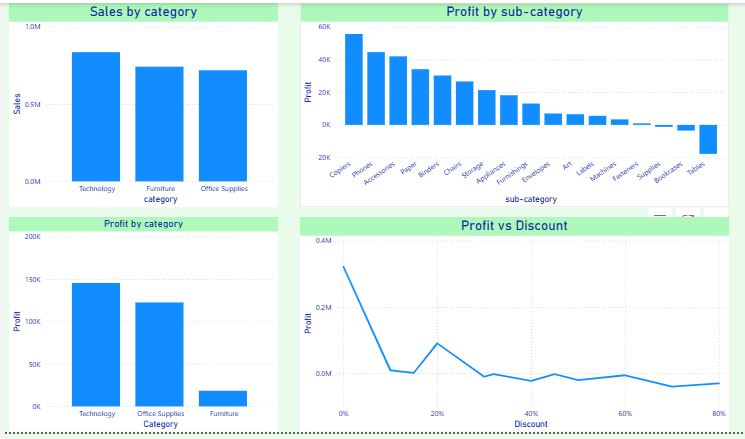

The dashboard page shown, as its layout file describes it:
{"tool":"powerbi","page":{"name":"Product_Insights","canvas":[1280,720],"ordinal":1},"visuals":[{"type":"shape","box":[10.1,0,451.9,342.7],"z":0},{"type":"shape","box":[498.9,0,720.6,342.7],"z":1000},{"type":"shape","box":[10.1,359.5,451.9,361.2],"z":2000},{"type":"clusteredColumnChart","title":"Sales by category","fields":{"Y":["Sum(clean_superstore_sales.sales)"],"Category":["clean_superstore_sales.category"]},"box":[10.1,0,451.9,342.7],"z":3000},{"type":"clusteredColumnChart","title":"Profit by sub-category","fields":{"Y":["Sum(clean_superstore_sales.profit)"],"Category":["clean_superstore_sales.sub-category"]},"box":[498.9,0,720.6,342.7],"z":4000},{"type":"clusteredColumnChart","title":"Profit by category","fields":{"Y":["Sum(clean_superstore_sales.profit)"],"Category":["clean_superstore_sales.category"]},"box":[10.1,359.5,451.9,361.2],"z":5000},{"type":"shape","box":[498.9,359.5,720.6,361.2],"z":6000},{"type":"lineChart","title":"Profit vs Discount","fields":{"Category":["clean_superstore_sales.discount"],"Y":["Sum(clean_superstore_sales.profit)"]},"box":[498.9,359.5,720.6,361.2],"z":7000}]}

Visuals, with their boxes on the page's 1280x720 design canvas (x1, y1, x2, y2). These are canvas units, not pixel positions in the 745x439 screenshot, which may show the page scaled, cropped or inside an application window:
shape: (x1=10, y1=0, x2=462, y2=343)
shape: (x1=499, y1=0, x2=1220, y2=343)
shape: (x1=10, y1=360, x2=462, y2=721)
"Sales by category" clusteredColumnChart: (x1=10, y1=0, x2=462, y2=343)
"Profit by sub-category" clusteredColumnChart: (x1=499, y1=0, x2=1220, y2=343)
"Profit by category" clusteredColumnChart: (x1=10, y1=360, x2=462, y2=721)
shape: (x1=499, y1=360, x2=1220, y2=721)
"Profit vs Discount" lineChart: (x1=499, y1=360, x2=1220, y2=721)
